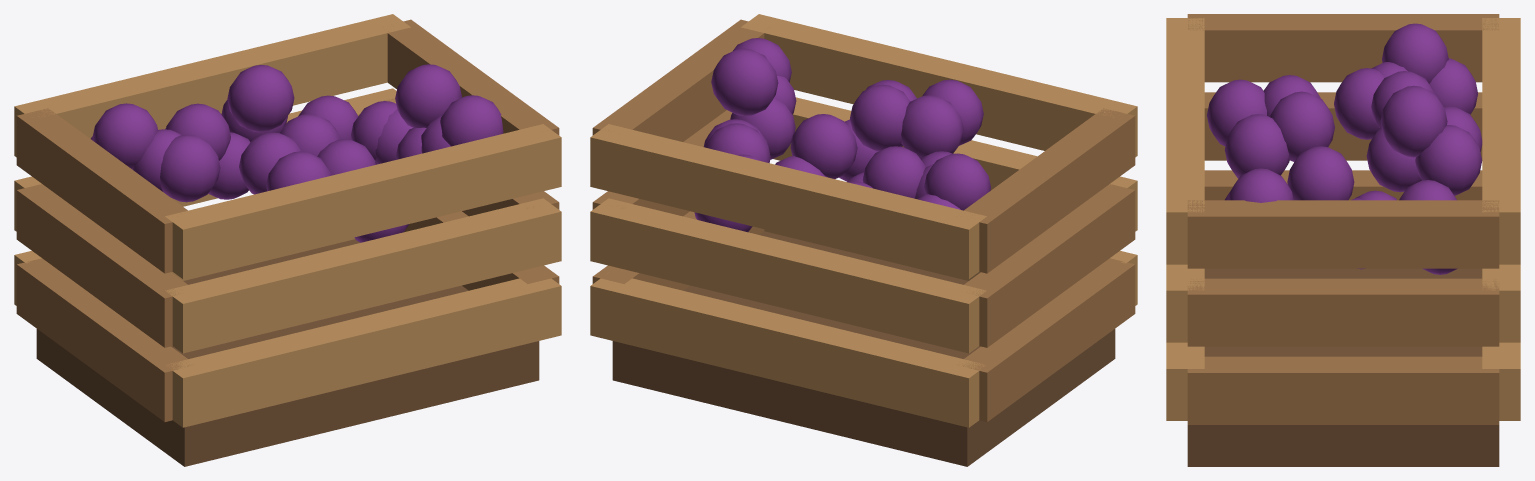
File: grape_crate.glb
3 renders of one model, left to right at view 1: azimuth 30°, elevation 25°; view 2: azimuth 150°, elevation 25°; view 3: azimuth 270°, elevation 25°, orthographic. The views are drawn at different scales.
Parts seen in each view (by area): view 1: Crate long slat.002, Crate long slat.001, Crate long slat, Crate floor, Crate long slat.005, Crate short slat.002, Crate short slat, Crate short slat.001, Crate short slat.005, Grapes in crate, Grapes in crate.018, Grapes in crate.005 (+19 smaller); view 2: Crate long slat.004, Crate long slat.005, Crate long slat.003, Crate floor, Crate long slat.002, Crate short slat.002, Crate short slat, Crate short slat.001, Crate short slat.005, Grapes in crate.005, Crate long slat.001, Grapes in crate (+12 smaller); view 3: Crate short slat.005, Crate short slat.004, Crate short slat.003, Crate floor, Crate short slat.002, Crate long slat.002, Crate long slat.005, Grapes in crate, Grapes in crate.016, Grapes in crate.019, Grapes in crate.005, Grapes in crate.004 (+16 smaller).
Part boxes in pixels (x1,y1,x2,y2): Crate long slat.002: (165,124,561,278); Crate long slat.001: (165,198,561,353); Crate long slat: (166,278,561,427); Crate floor: (36,239,539,466); Crate long slat.005: (14,14,410,157); Crate short slat.002: (16,108,187,273); Crate short slat: (16,258,193,421); Crate short slat.001: (16,184,187,347); Crate short slat.005: (387,19,559,135); Grapes in crate: (227,65,294,132); Grapes in crate.018: (160,134,220,202); Grapes in crate.005: (395,64,461,128); Crate long slat.004: (590,198,986,353); Crate long slat.005: (590,124,986,278); Crate long slat.003: (590,272,985,427); Crate floor: (612,231,1115,466); Crate long slat.002: (741,14,1137,157); Crate short slat.002: (964,108,1135,273); Crate short slat: (957,258,1135,421); Crate short slat.001: (964,184,1135,347); Crate short slat.005: (592,19,768,141); Grapes in crate.005: (711,48,778,116); Crate long slat.001: (773,97,1137,231); Grapes in crate: (790,114,857,178); Crate short slat.005: (1187,200,1499,268); Crate short slat.004: (1187,278,1499,346); Crate short slat.003: (1187,356,1499,424); Crate floor: (1187,268,1499,466); Crate short slat.002: (1187,14,1499,82); Crate long slat.002: (1166,18,1204,264); Crate long slat.005: (1482,18,1520,264); Grapes in crate: (1380,85,1447,157); Grapes in crate.016: (1415,125,1482,195); Grapes in crate.019: (1224,114,1289,178); Grapes in crate.005: (1287,146,1354,200); Grapes in crate.004: (1270,91,1334,161).
Size of the model in its own units: 1 by 0.6747 by 0.74.
